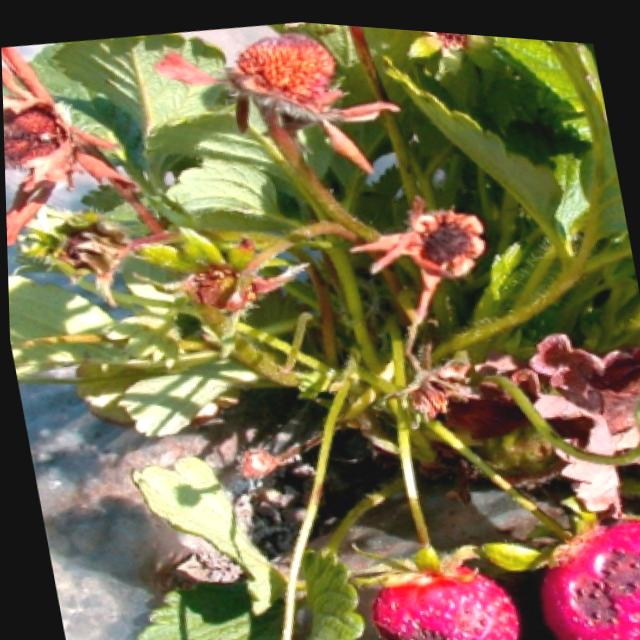Anthracnose Fruit Rot: (558, 536, 640, 632), (370, 592, 490, 640)
